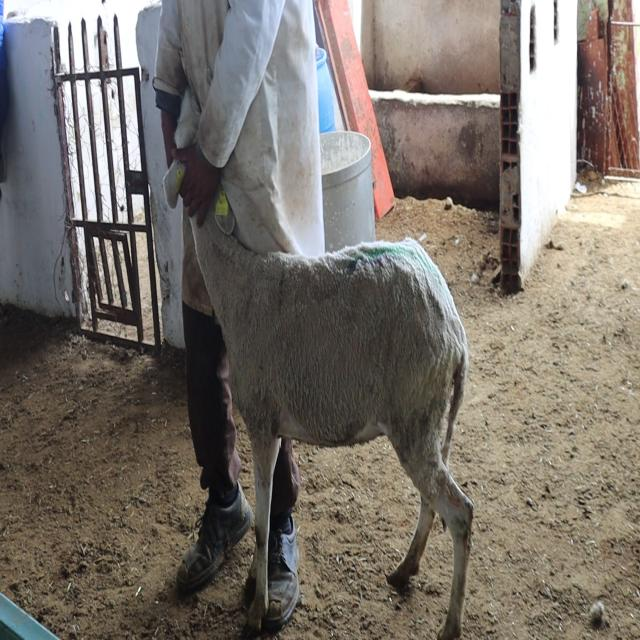Score_1: (189, 184, 473, 639)
